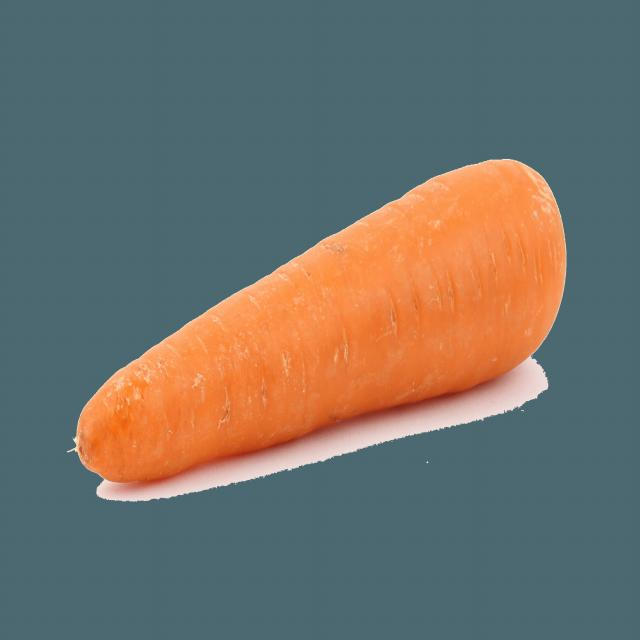Carrot: (72, 156, 568, 487)
